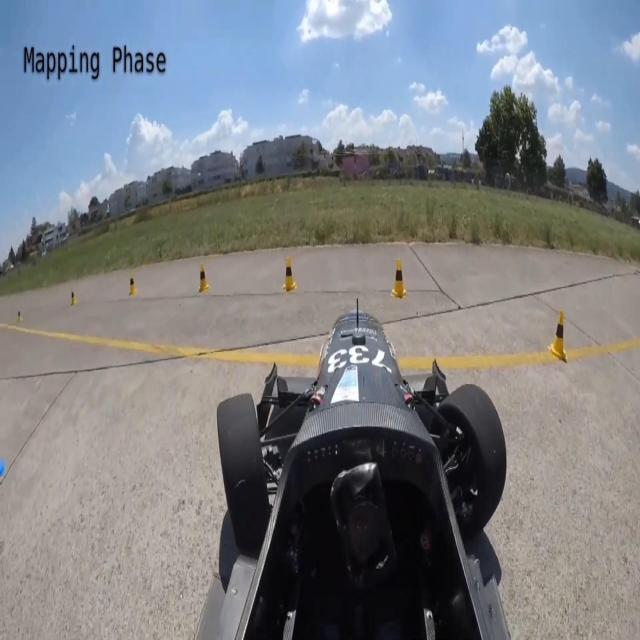Cono de seguridad: (546, 308, 569, 358), (390, 261, 408, 302), (282, 252, 298, 294), (196, 262, 209, 296), (126, 273, 137, 299), (69, 285, 79, 311), (16, 306, 24, 325)
vehiculo: (200, 294, 510, 640)
